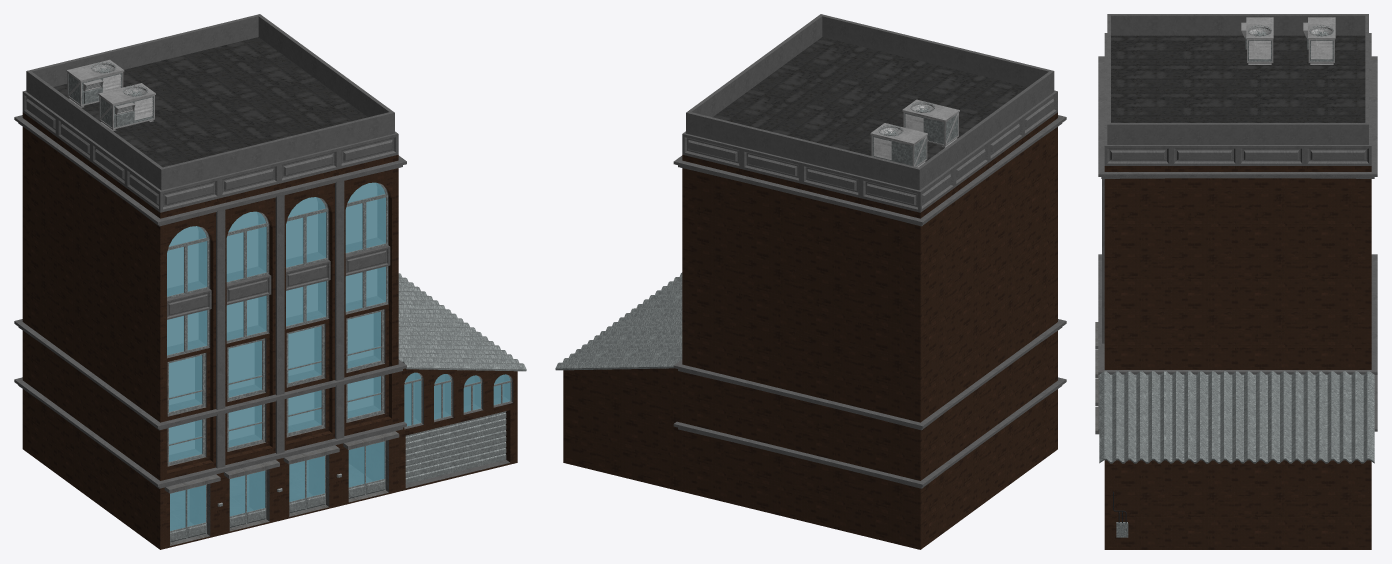
The model's file is Building_Small_DownTown12.obj.
3 renders of one model, left to right at view 1: azimuth 30°, elevation 25°; view 2: azimuth 150°, elevation 25°; view 3: azimuth 270°, elevation 25°, orthographic. The views are drawn at different scales.
Visible parts, largest first — view 1: Building_Small_DownTown12_Building_Small_DownTown12_Mesh_DarkBri, Building_Small_DownTown12_Building_Small_DownTown12_Mesh_CementS, Building_Small_DownTown12_Building_Small_DownTown12_Mesh_Glass, Building_Small_DownTown12_Building_Small_DownTown12_Mesh_MetalGa, Building_Small_DownTown12_Building_Small_DownTown12_Mesh_RoofGro, Building_Small_DownTown12_Building_Small_DownTown12_Mesh_CementP, Building_Small_DownTown12_Building_Small_DownTown12_Mesh_EpoxyBl, Building_Small_DownTown12_Building_Small_DownTown12_Mesh_MetalSm; view 2: Building_Small_DownTown12_Building_Small_DownTown12_Mesh_DarkBri, Building_Small_DownTown12_Building_Small_DownTown12_Mesh_CementS, Building_Small_DownTown12_Building_Small_DownTown12_Mesh_RoofGro, Building_Small_DownTown12_Building_Small_DownTown12_Mesh_MetalGa, Building_Small_DownTown12_Building_Small_DownTown12_Mesh_MetalSm; view 3: Building_Small_DownTown12_Building_Small_DownTown12_Mesh_DarkBri, Building_Small_DownTown12_Building_Small_DownTown12_Mesh_MetalGa, Building_Small_DownTown12_Building_Small_DownTown12_Mesh_CementS, Building_Small_DownTown12_Building_Small_DownTown12_Mesh_RoofGro, Building_Small_DownTown12_Building_Small_DownTown12_Mesh_MetalSm, Building_Small_DownTown12_Building_Small_DownTown12_Mesh_CementP.
Part boxes in pixels (<box>): Building_Small_DownTown12_Building_Small_DownTown12_Mesh_DarkBri: <box>22,112,517,549</box>; Building_Small_DownTown12_Building_Small_DownTown12_Mesh_CementS: <box>14,14,513,488</box>; Building_Small_DownTown12_Building_Small_DownTown12_Mesh_Glass: <box>167,182,510,530</box>; Building_Small_DownTown12_Building_Small_DownTown12_Mesh_MetalGa: <box>68,62,526,542</box>; Building_Small_DownTown12_Building_Small_DownTown12_Mesh_RoofGro: <box>53,37,367,167</box>; Building_Small_DownTown12_Building_Small_DownTown12_Mesh_CementP: <box>164,184,399,545</box>; Building_Small_DownTown12_Building_Small_DownTown12_Mesh_EpoxyBl: <box>167,183,376,454</box>; Building_Small_DownTown12_Building_Small_DownTown12_Mesh_MetalSm: <box>66,59,155,130</box>; Building_Small_DownTown12_Building_Small_DownTown12_Mesh_DarkBri: <box>563,112,1057,549</box>; Building_Small_DownTown12_Building_Small_DownTown12_Mesh_CementS: <box>673,14,1066,488</box>; Building_Small_DownTown12_Building_Small_DownTown12_Mesh_RoofGro: <box>713,37,1027,161</box>; Building_Small_DownTown12_Building_Small_DownTown12_Mesh_MetalGa: <box>555,101,957,370</box>; Building_Small_DownTown12_Building_Small_DownTown12_Mesh_MetalSm: <box>870,99,959,167</box>; Building_Small_DownTown12_Building_Small_DownTown12_Mesh_DarkBri: <box>1104,166,1371,549</box>; Building_Small_DownTown12_Building_Small_DownTown12_Mesh_MetalGa: <box>1099,25,1374,537</box>; Building_Small_DownTown12_Building_Small_DownTown12_Mesh_CementS: <box>1098,14,1377,431</box>; Building_Small_DownTown12_Building_Small_DownTown12_Mesh_RoofGro: <box>1111,35,1365,122</box>; Building_Small_DownTown12_Building_Small_DownTown12_Mesh_MetalSm: <box>1241,17,1335,64</box>; Building_Small_DownTown12_Building_Small_DownTown12_Mesh_CementP: <box>1095,322,1099,434</box>.
Size of the model in its own units: 18.6 by 18.65 by 12.7.
Materials: 10 (8 with a texture image).
